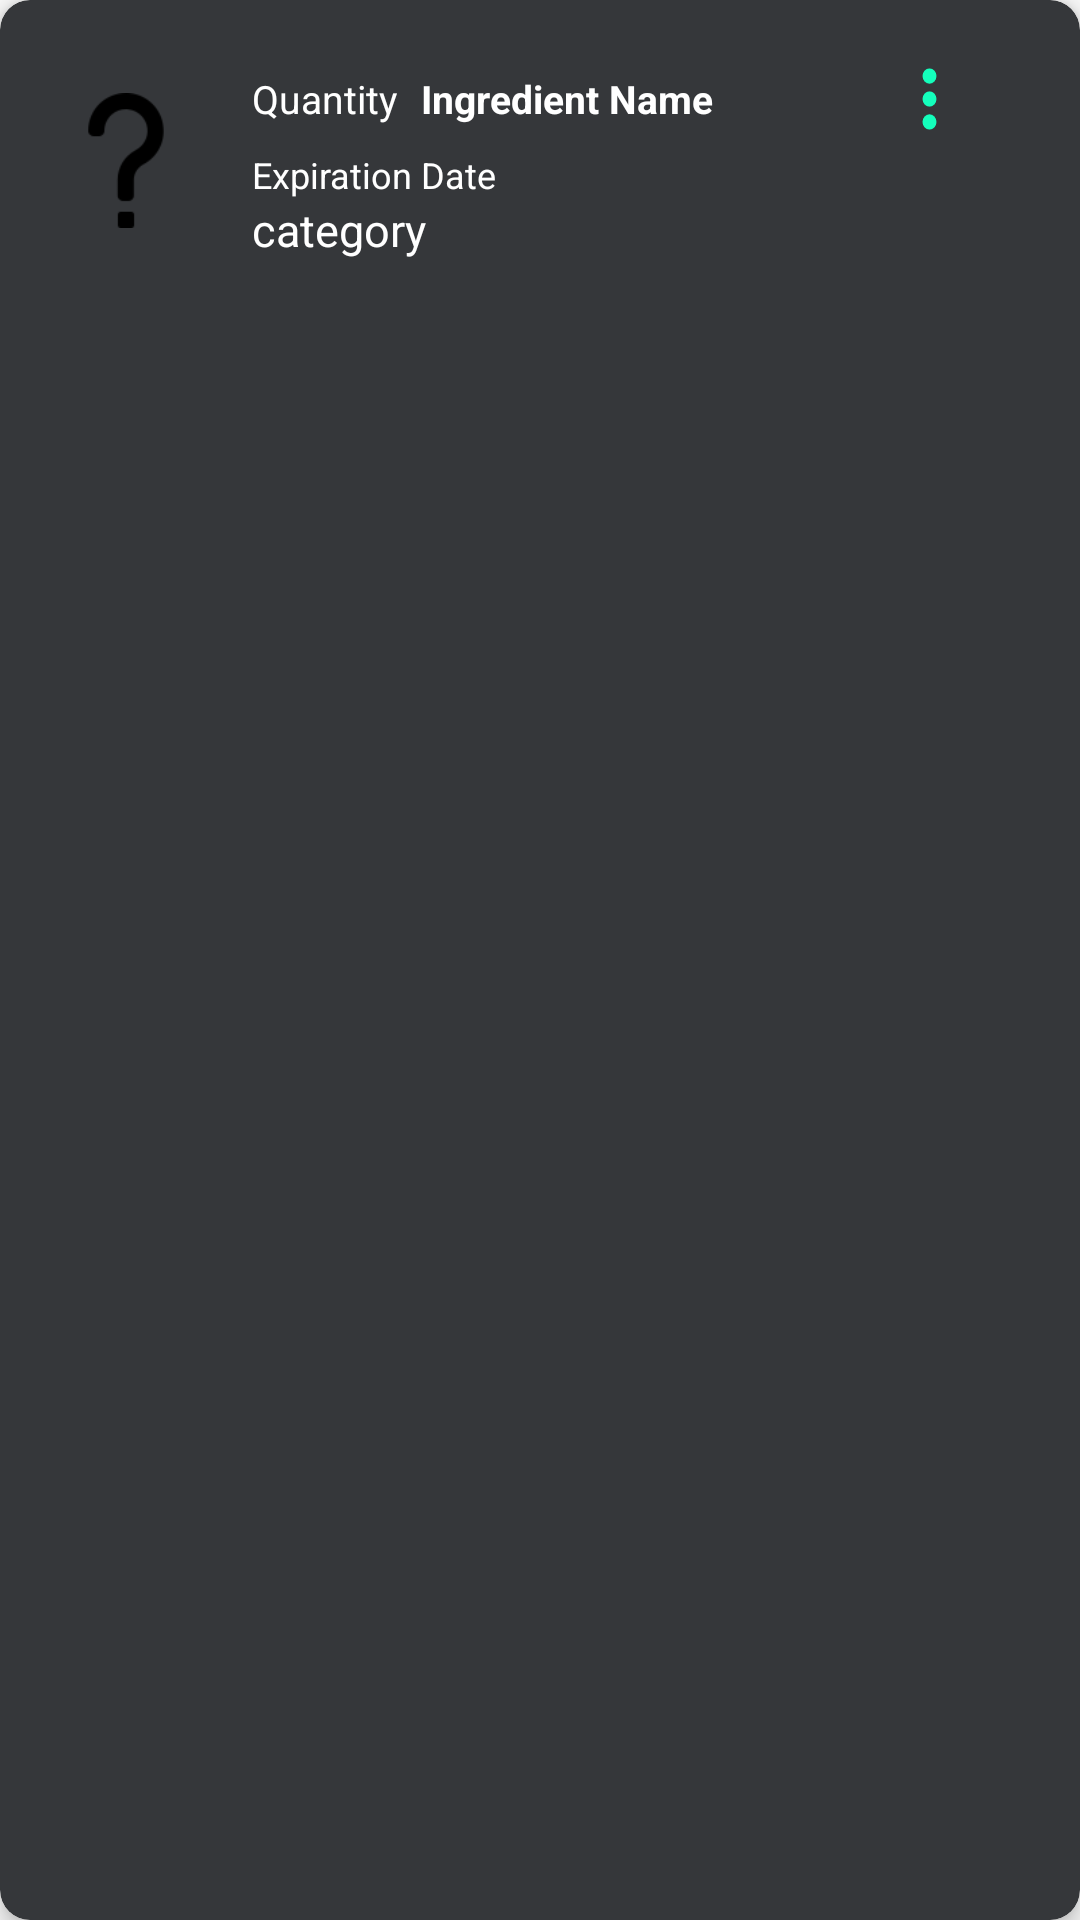

Screen size 1080 x 1920. Icon name, then its box in pixels as (x1, y1, x2, y2):
question mark: (88, 93, 164, 228)
